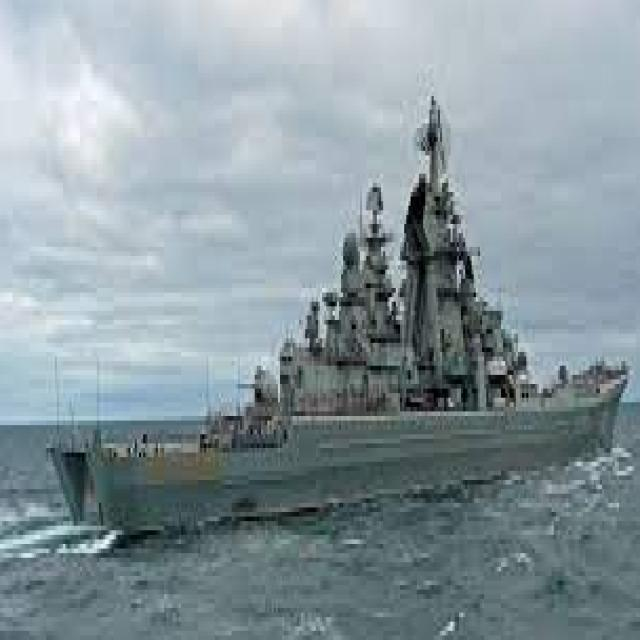navalvessels: (53, 102, 630, 558)
